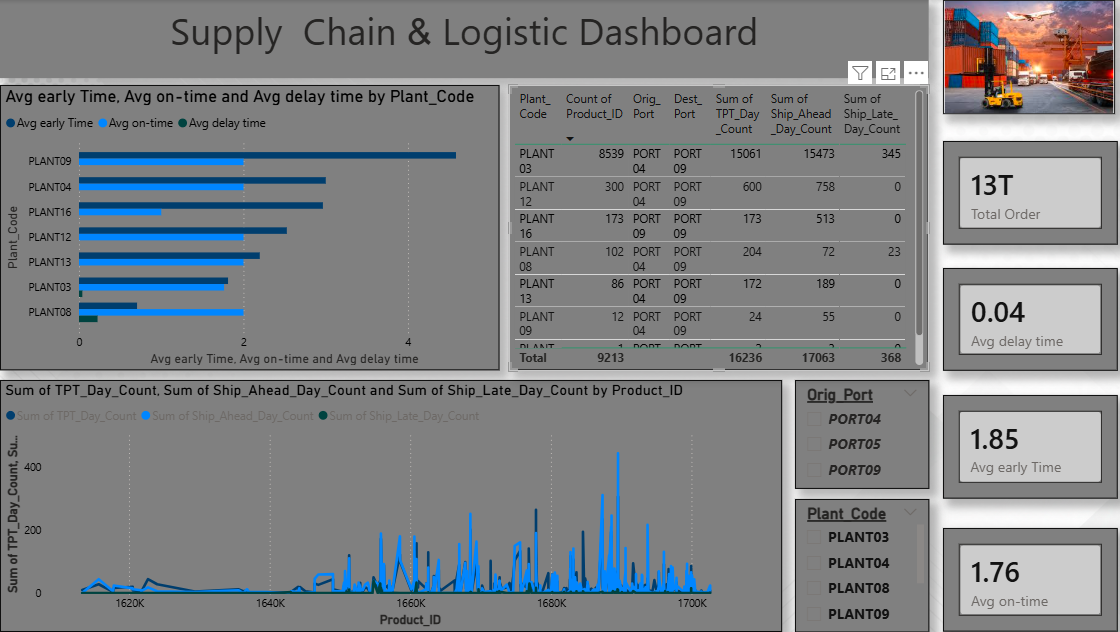

The dashboard page shown, as its layout file describes it:
{"tool":"powerbi","page":{"name":"Page 1","canvas":[1280,720],"ordinal":0},"visuals":[{"type":"textbox","box":[0,0,1058.4,88.9],"z":0},{"type":"image","box":[1074.3,0,195.9,129.9],"z":1000},{"type":"cardVisual","fields":{"Data":["Sheet1.Total Order"]},"box":[1074.3,160.6,199.4,118.5],"z":2000},{"type":"cardVisual","fields":{"Data":["Sheet1.Avg delay time"]},"box":[1074.3,305.3,199.4,117.3],"z":3000},{"type":"cardVisual","fields":{"Data":["Sheet1.Avg early Time"]},"box":[1074.3,450,199.4,118.5],"z":4000},{"type":"cardVisual","fields":{"Data":["Sheet1.Avg on-time"]},"box":[1074.3,601.5,199.4,118.5],"z":5000},{"type":"slicer","fields":{"Values":["Sheet1.Orig_Port"]},"box":[906.1,433.3,152.9,124.3],"z":6000},{"type":"slicer","fields":{"Values":["Sheet1.Plant_Code"]},"box":[906.1,568.5,152.9,151.8],"z":7000},{"type":"clusteredBarChart","fields":{"Category":["Sheet1.Plant_Code"],"Y":["Sheet1.Avg early Time","Sheet1.Avg on-time","Sheet1.Avg delay time"]},"box":[0,96.8,568.5,325.5],"z":8000},{"type":"lineChart","fields":{"Y":["Sum(Sheet1.TPT_Day_Count)","Sum(Sheet1.Ship_Ahead_Day_Count)","Sum(Sheet1.Ship_Late_Day_Count)"],"Category":["Sheet1.Product_ID"]},"box":[0,432.9,890.9,287.1],"z":9000},{"type":"tableEx","fields":{"Values":["Sheet1.Plant_Code","CountNonNull(Sheet1.Product_ID)","Sheet1.Orig_Port","Sheet1.Dest_Port","Sum(Sheet1.TPT_Day_Count)","Sum(Sheet1.Ship_Ahead_Day_Count)","Sum(Sheet1.Ship_Late_Day_Count)"]},"box":[579.5,96.8,478.4,325.5],"z":10000}]}

Visuals, with their boxes in screenshot pixels (x1, y1, x2, y2), scaled from the page's 1280x720 canvas onto the 1120x632 screenshot:
textbox: region(0, 0, 926, 78)
image: region(940, 0, 1111, 114)
cardVisual - Sheet1.Total Order: region(940, 141, 1114, 245)
cardVisual - Sheet1.Avg delay time: region(940, 268, 1114, 371)
cardVisual - Sheet1.Avg early Time: region(940, 395, 1114, 499)
cardVisual - Sheet1.Avg on-time: region(940, 528, 1114, 631)
slicer - Sheet1.Orig_Port: region(793, 380, 927, 489)
slicer - Sheet1.Plant_Code: region(793, 499, 927, 631)
clusteredBarChart - Sheet1.Plant_Code x Sheet1.Avg early Time: region(0, 85, 497, 371)
lineChart - Sum(Sheet1.TPT_Day_Count) x Sum(Sheet1.Ship_Ahead_Day_Count): region(0, 380, 780, 631)
tableEx - Sheet1.Plant_Code x CountNonNull(Sheet1.Product_ID): region(507, 85, 926, 371)
